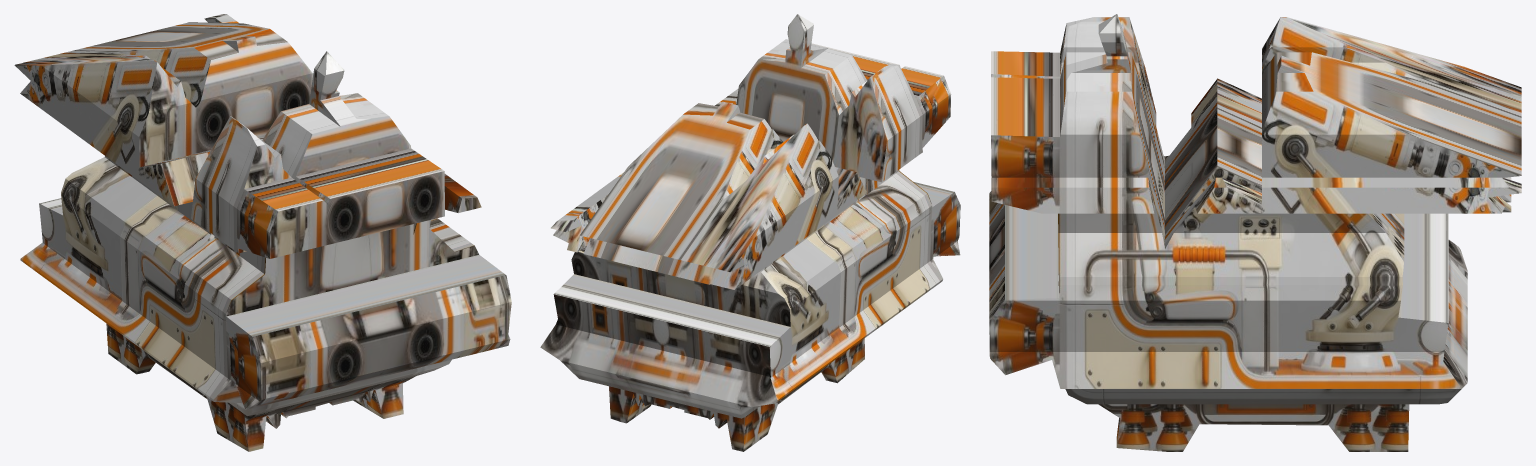
File: eva_sled.glb
The picture shows the model from 3 angles, left to right: view 1: azimuth 30°, elevation 25°; view 2: azimuth 150°, elevation 25°; view 3: azimuth 270°, elevation 25°; orthographic projection. The views are drawn at different scales.
Visible parts, largest first — view 1: eva_sled; view 2: eva_sled; view 3: eva_sled.
Part boxes in pixels (left/top/right/bottom): eva_sled: left=14, top=14, right=511, bottom=451; eva_sled: left=540, top=14, right=960, bottom=451; eva_sled: left=989, top=14, right=1521, bottom=451.
Size of the model in its own units: 1.84 by 2.49 by 2.99.
2 materials, 1 textured.
